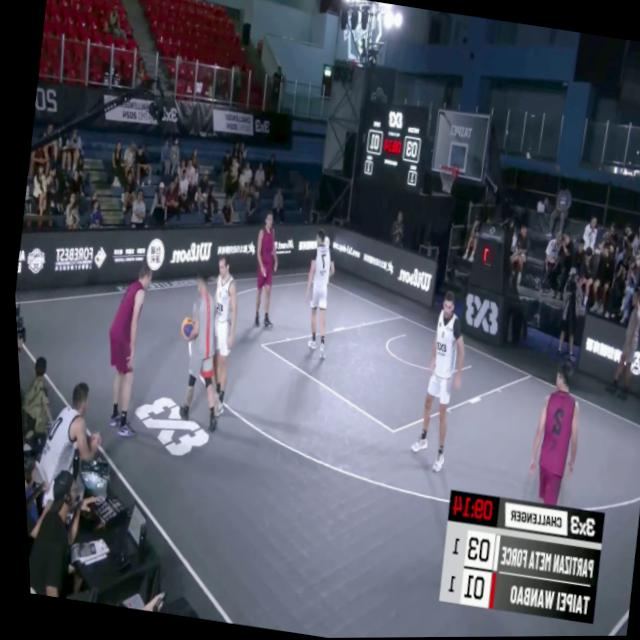ball: (174, 310, 195, 341)
hoop: (431, 161, 460, 199)
player: (397, 289, 474, 476), (86, 259, 159, 440), (516, 360, 588, 512), (191, 253, 246, 416), (291, 228, 341, 358), (246, 213, 290, 333)
